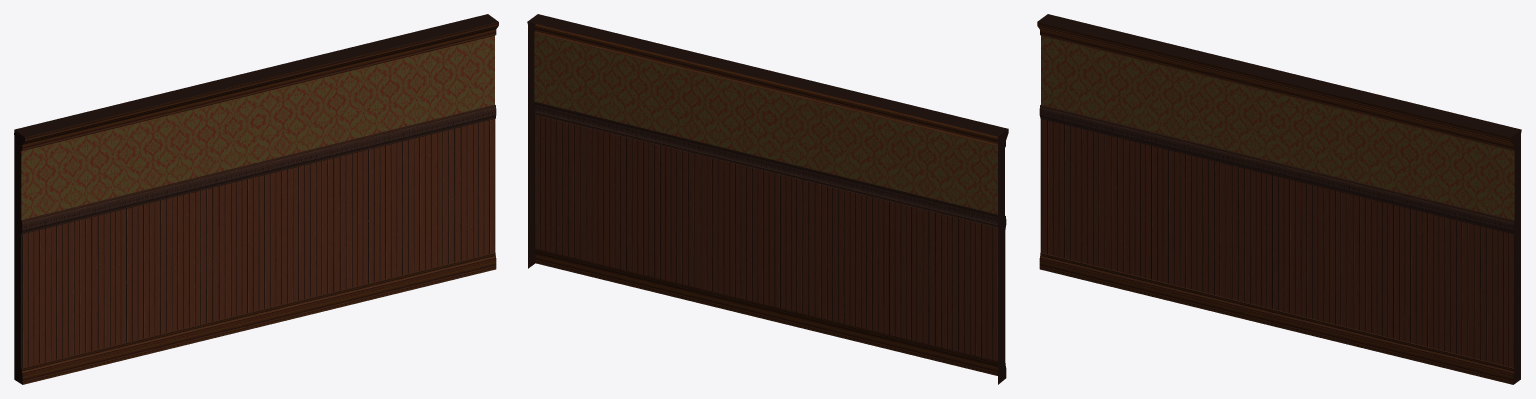
Rendered from Wall2Long.fbx.
The picture shows the model from 3 angles, left to right: view 1: azimuth 30°, elevation 25°; view 2: azimuth 150°, elevation 25°; view 3: azimuth 330°, elevation 25°; orthographic projection.
Parts seen in each view (by area): view 1: WallSection2Long; view 2: WallSection2Long; view 3: WallSection2Long.
Part boxes in pixels (x1,y1,x2,y2): WallSection2Long: (14, 14, 498, 384); WallSection2Long: (527, 14, 1008, 384); WallSection2Long: (1037, 14, 1521, 384).
Size of the model in its own units: 739 by 372 by 29.11.
